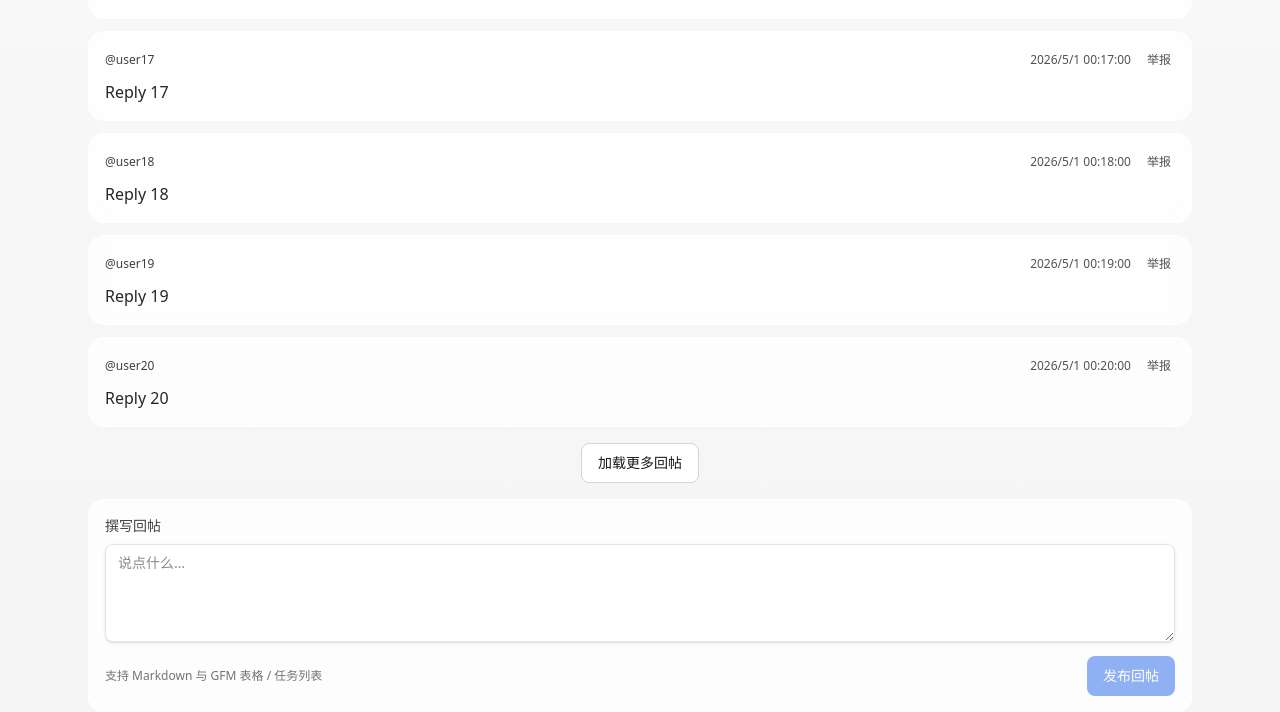
Scenario: ForumDetailPage replies pagination › keeps loaded reply pages expanded after deleting an inline non-cursor reply
(page scrolled)
Click the button "加载更多回帖" at (640, 463), box x1=581 y1=443 x2=699 y2=483
(page scrolled)
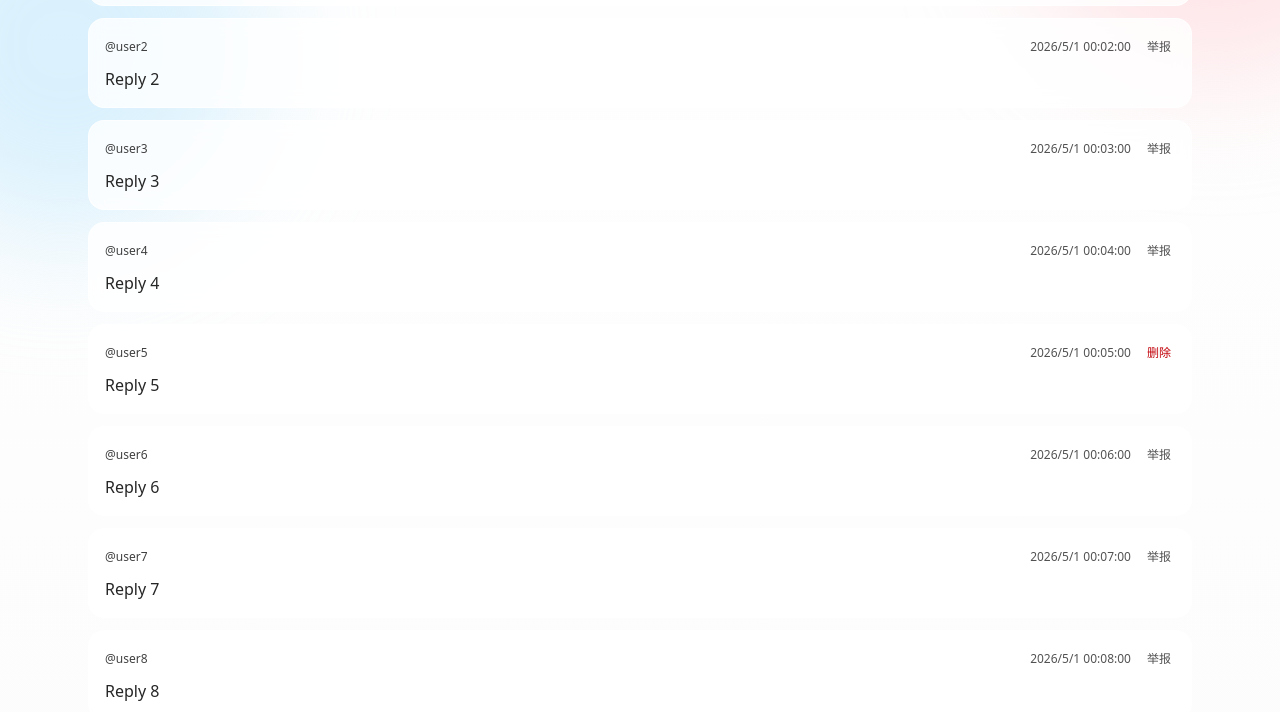
Click the button with aria-label "删除 @user5 的回帖" at (1159, 353), box x1=1143 y1=341 x2=1175 y2=365
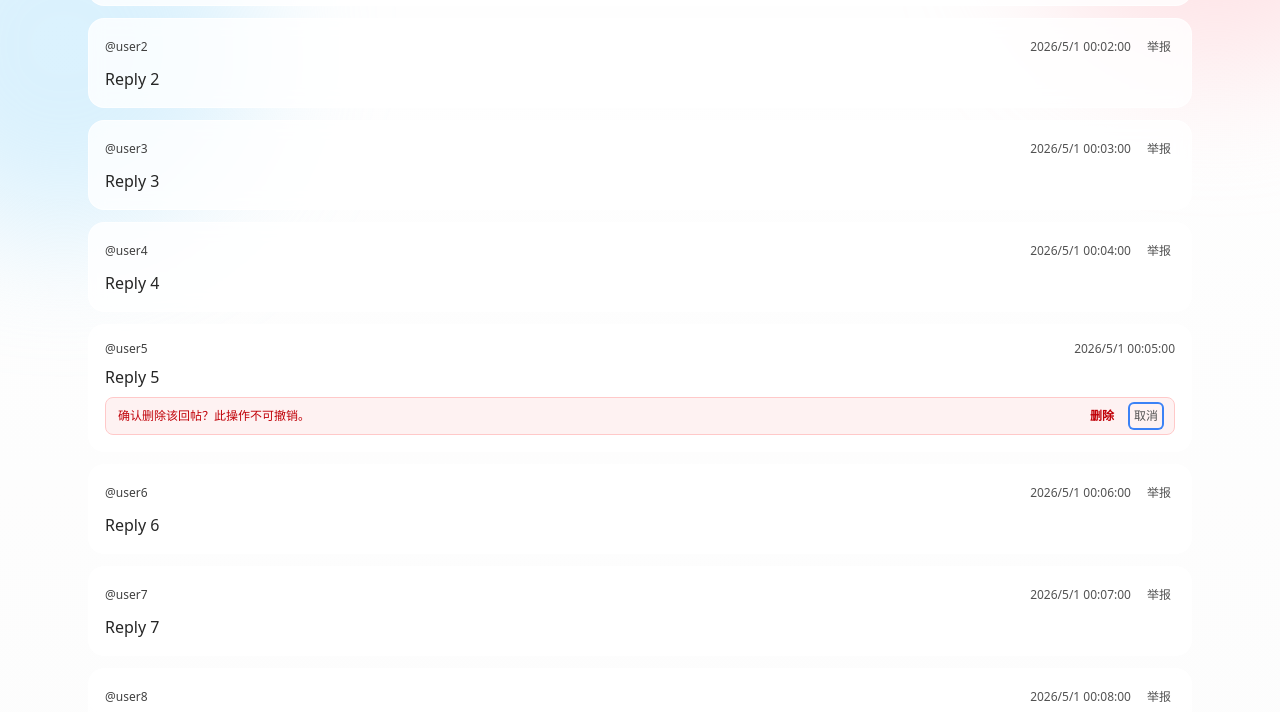
Click the button "删除" at (1102, 416), box x1=1086 y1=404 x2=1118 y2=428
(page scrolled)
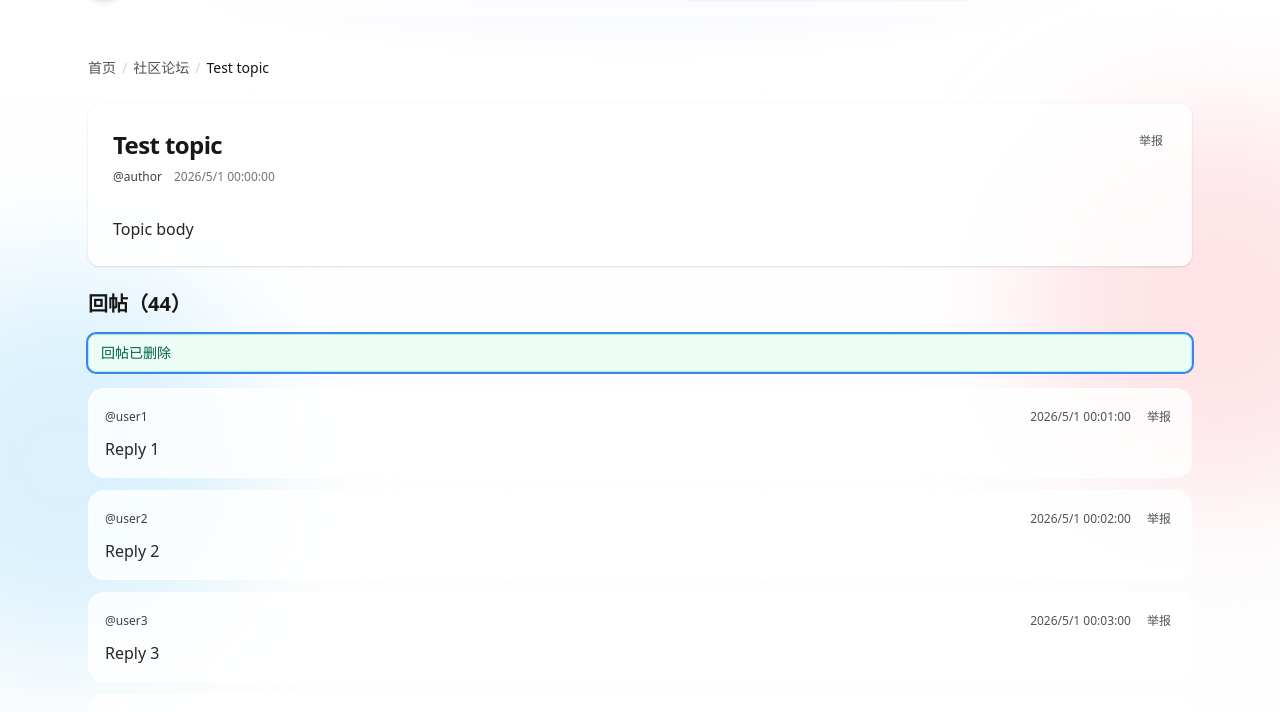
Result: the text "Reply 5" is gone
Result: the heading "回帖（44）" is shown at x1=88 y1=290 x2=191 y2=317
